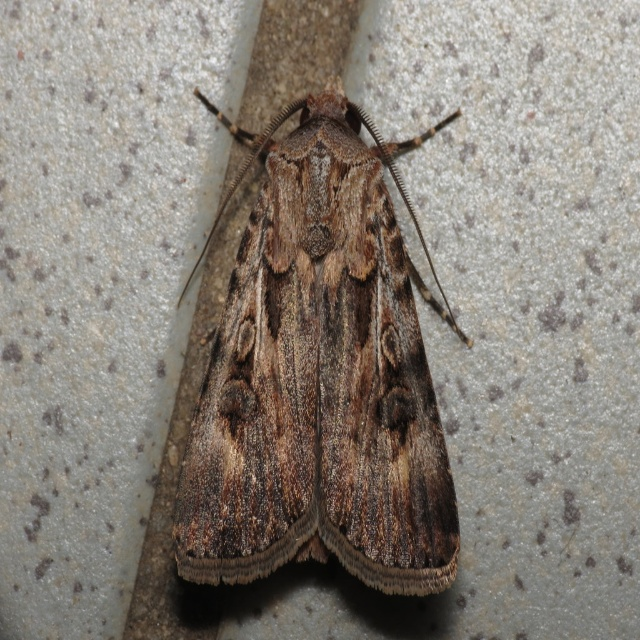Moths and butterflies: (171, 82, 477, 602)
